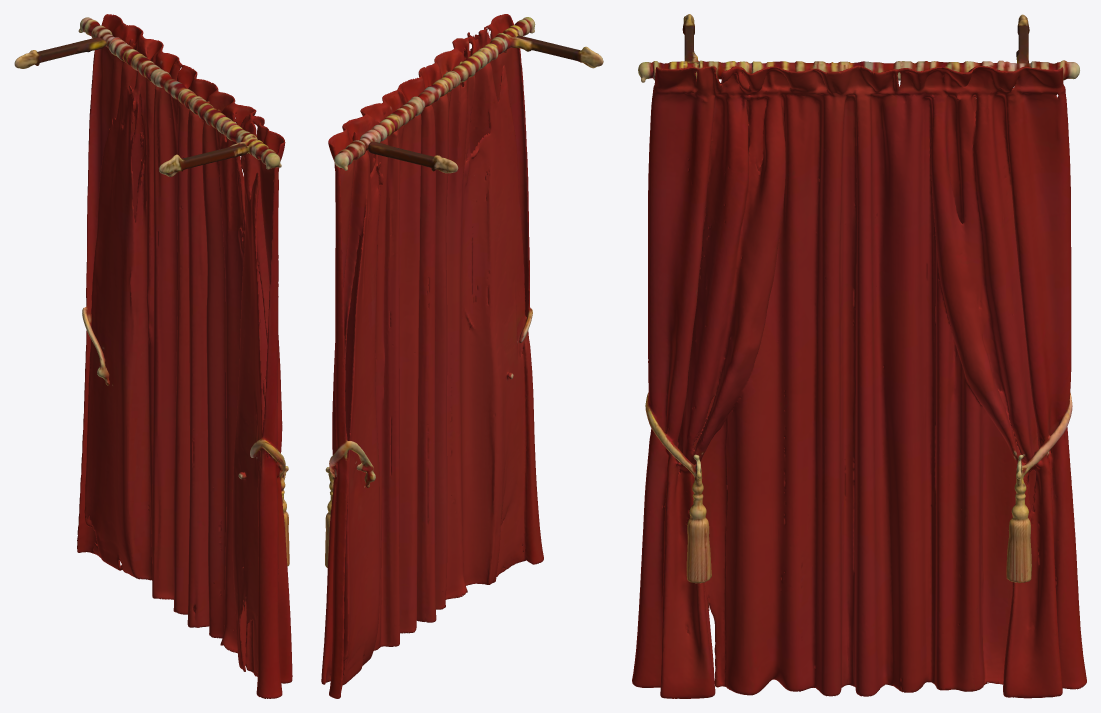
File: theater_curtain_red.glb
3 renders of one model, left to right at view 1: azimuth 30°, elevation 25°; view 2: azimuth 150°, elevation 25°; view 3: azimuth 270°, elevation 25°, orthographic. The views are drawn at different scales.
Visible parts, largest first — view 1: tripo_node_6809275c-2f35-408b-963b-d2eafaf12c4c; view 2: tripo_node_6809275c-2f35-408b-963b-d2eafaf12c4c; view 3: tripo_node_6809275c-2f35-408b-963b-d2eafaf12c4c.
Boxes of the visible parts, box(x1,y1,x2,y2) form: tripo_node_6809275c-2f35-408b-963b-d2eafaf12c4c: box(14, 14, 292, 698); tripo_node_6809275c-2f35-408b-963b-d2eafaf12c4c: box(321, 14, 603, 698); tripo_node_6809275c-2f35-408b-963b-d2eafaf12c4c: box(632, 14, 1086, 698).
Bounding box in the file's own units: 0.2552 × 1 × 0.6544.
Materials: 1 (1 with a texture image).
